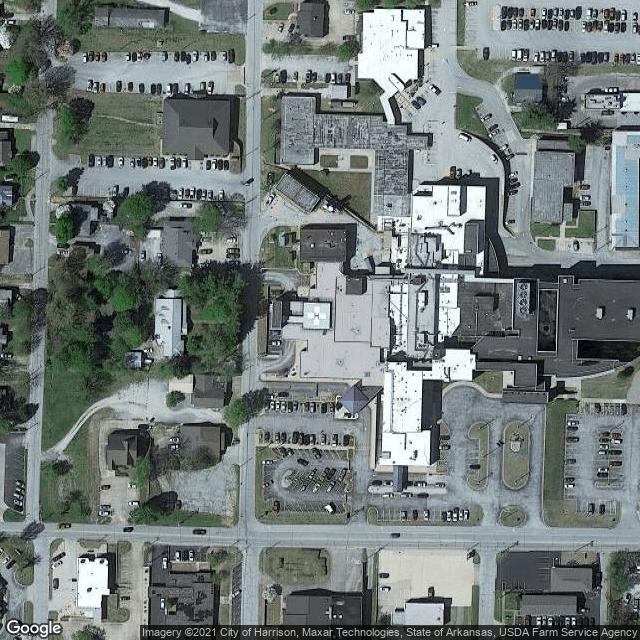Helipad: (299, 299, 332, 332)
